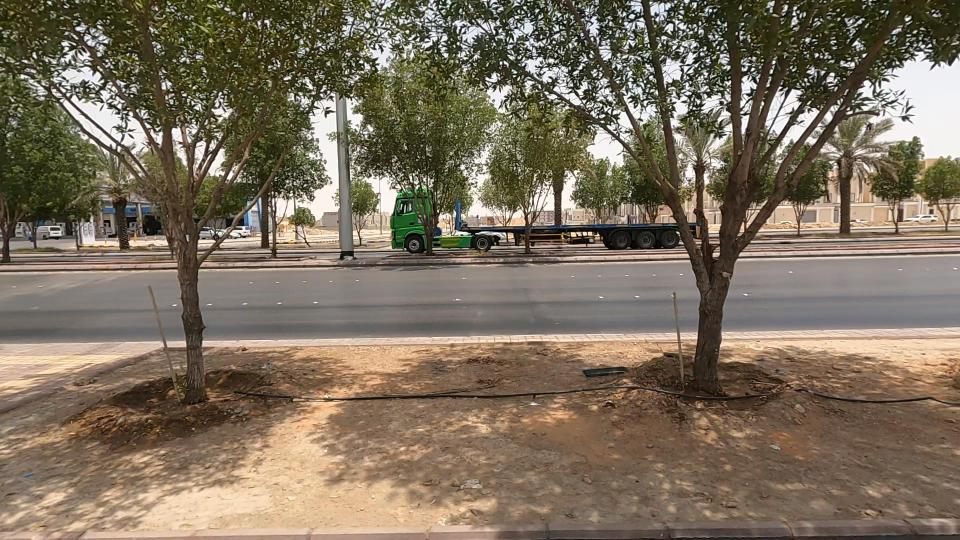CLUTTER_SIDEWALK: (287, 238, 869, 540), (120, 259, 618, 540)
GARBAGE: (135, 314, 771, 460), (532, 317, 682, 418)
